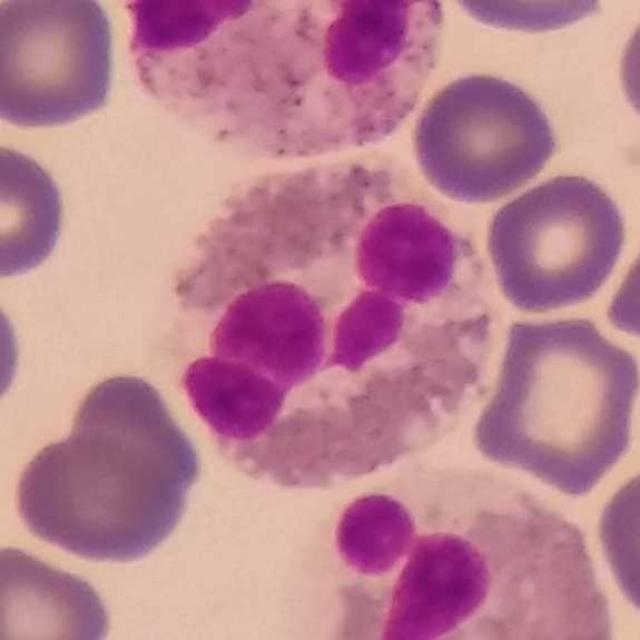eosino: (142, 150, 499, 491), (263, 468, 608, 640), (123, 0, 451, 156)
